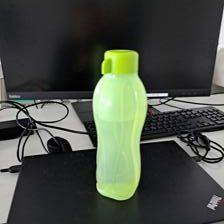bottle: (87, 47, 149, 205)
